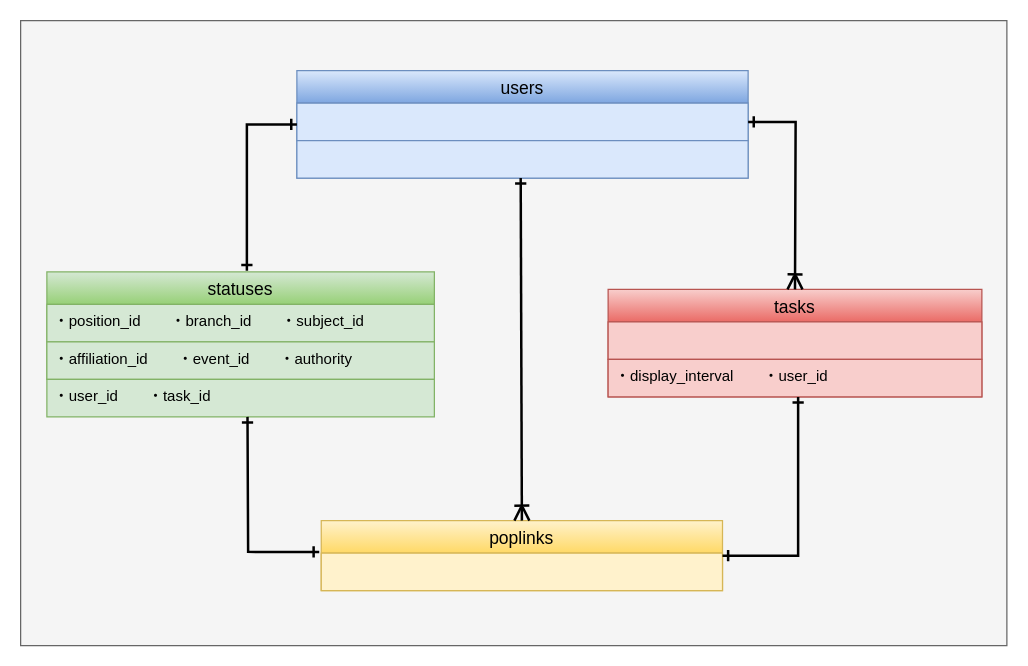
Image size: 1028x666. Some labels were removed from this diagram. The shapes that lost their labels are listed below. From the top down, each one's centre as x and y in pixels, then its label:
pixel 522 121: ・family_name ・first_name ・family_name_kana
pixel 522 158: ・first_name_kana ・email ・encrypted_password
pixel 794 340: ・task_name ・task_detail ・limit_date
pixel 521 571: ・user_id ・task_id ・user_status_id
